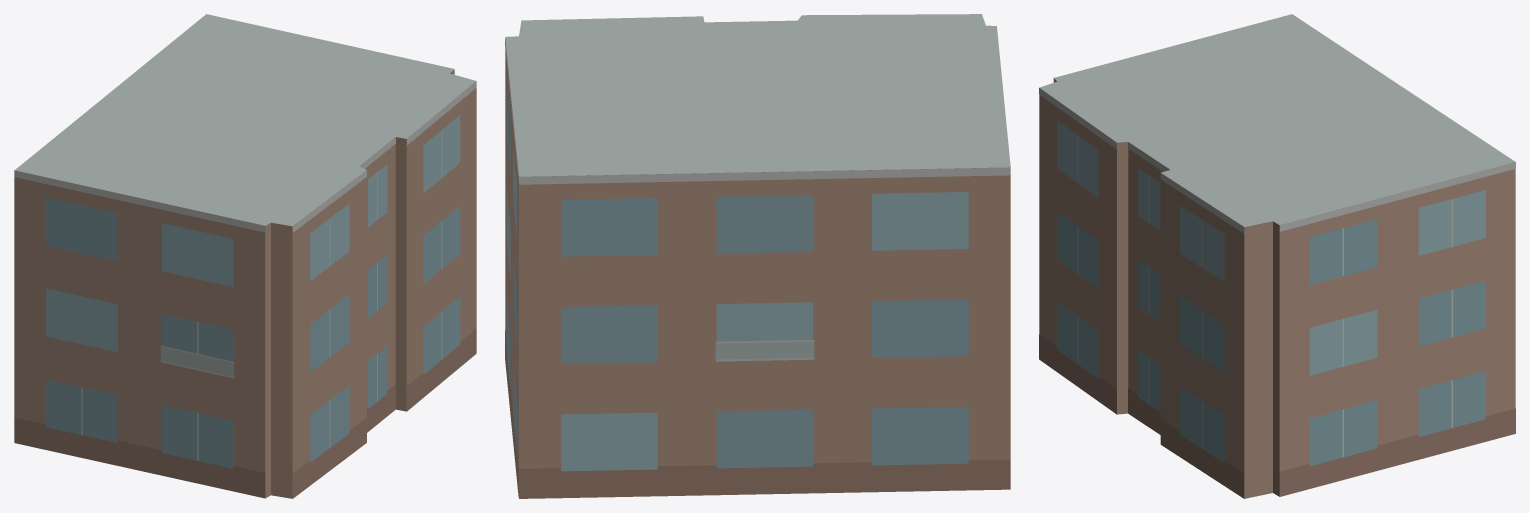
File: survey-upis-32624911.glb
3 renders of one model, left to right at view 1: azimuth 30°, elevation 25°; view 2: azimuth 150°, elevation 25°; view 3: azimuth 270°, elevation 25°, orthographic. The views are drawn at different scales.
Visible parts, largest first — view 1: survey-upis-32624911.tmp; view 2: survey-upis-32624911.tmp; view 3: survey-upis-32624911.tmp.
Part boxes in pixels (left/top/right/bottom): survey-upis-32624911.tmp: left=14, top=14, right=476, bottom=498; survey-upis-32624911.tmp: left=505, top=14, right=1010, bottom=498; survey-upis-32624911.tmp: left=1039, top=14, right=1515, bottom=498.
Bounding box in the file's own units: 16.49 × 9.8 × 15.58.
